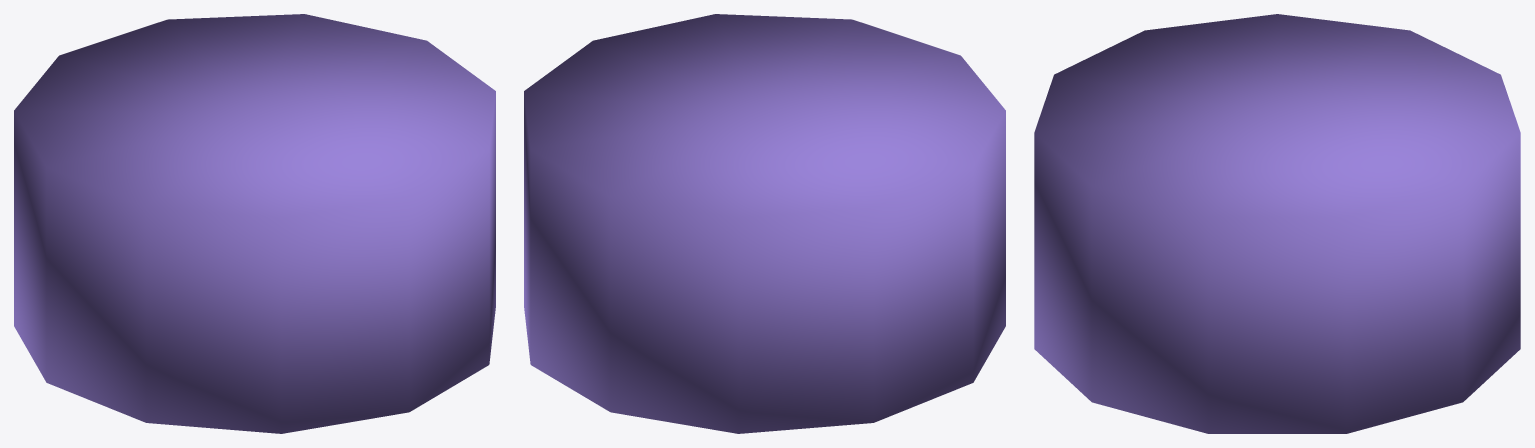
Rendered from HTOWN-SKYBOX.fbx.
The picture shows the model from 3 angles, left to right: view 1: azimuth 30°, elevation 25°; view 2: azimuth 150°, elevation 25°; view 3: azimuth 270°, elevation 25°; orthographic projection.
Visible parts, largest first — view 1: HTOWN-SKYBOX; view 2: HTOWN-SKYBOX; view 3: HTOWN-SKYBOX.
Boxes of the visible parts, <box> form: HTOWN-SKYBOX: <box>14,14,495,433</box>; HTOWN-SKYBOX: <box>524,14,1005,433</box>; HTOWN-SKYBOX: <box>1034,14,1520,433</box>.
Bounding box in the file's own units: 123763 × 61595 × 125036.
12 materials, 12 textured.
